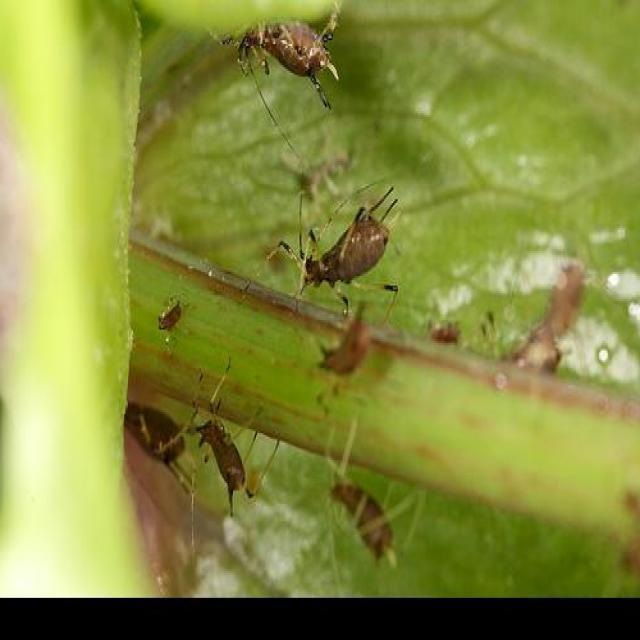aphid: (276, 186, 388, 302), (243, 9, 338, 90), (332, 459, 398, 566), (199, 418, 257, 505), (123, 392, 183, 472), (151, 282, 182, 333)
